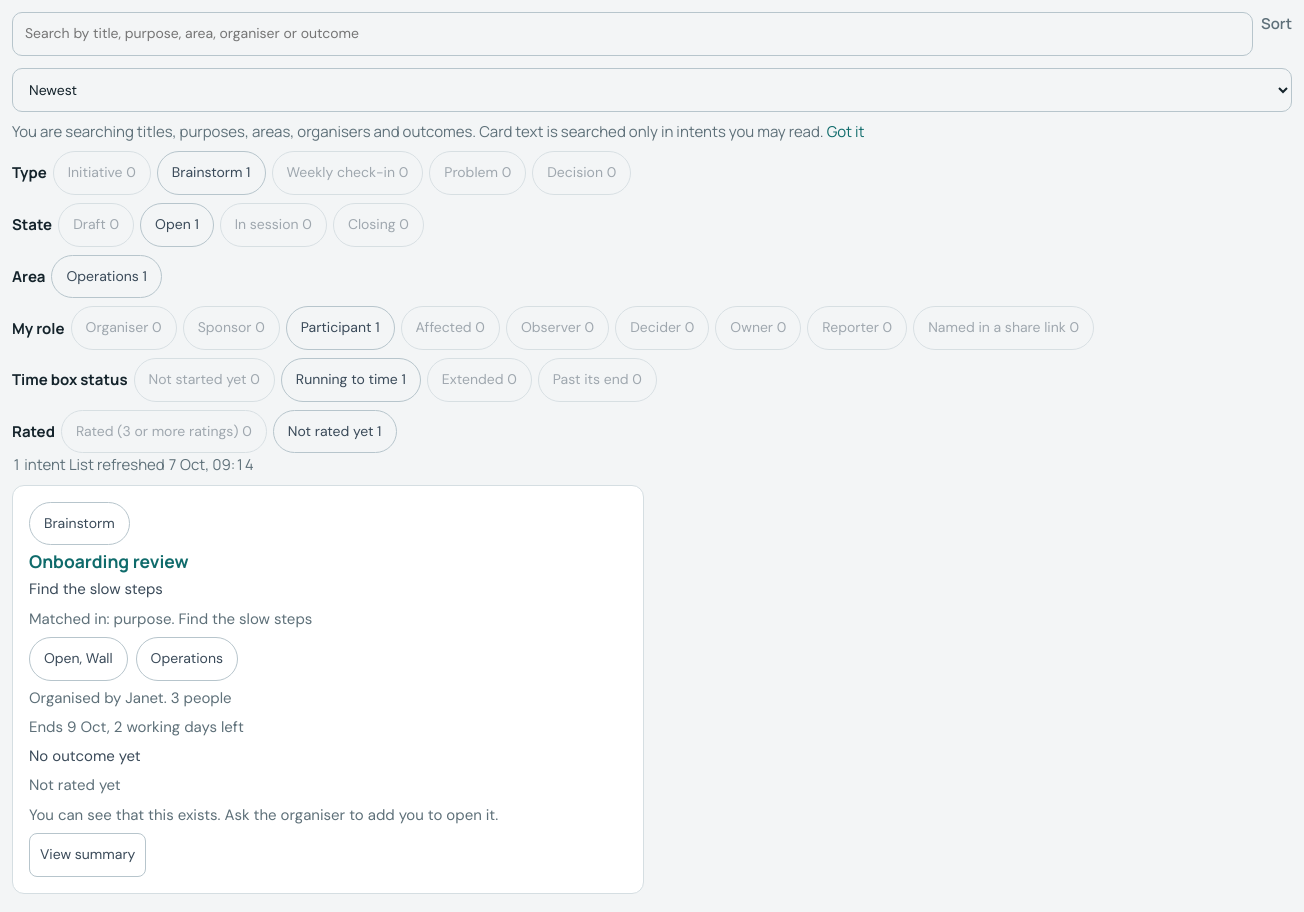
Test: Search region › sends a chip as a filter and shows the no-match copy
Expected: the link "Onboarding review" is shown, [29, 549, 189, 573]
Click the button "Initiative 0": (102,173) [53, 151, 151, 195]
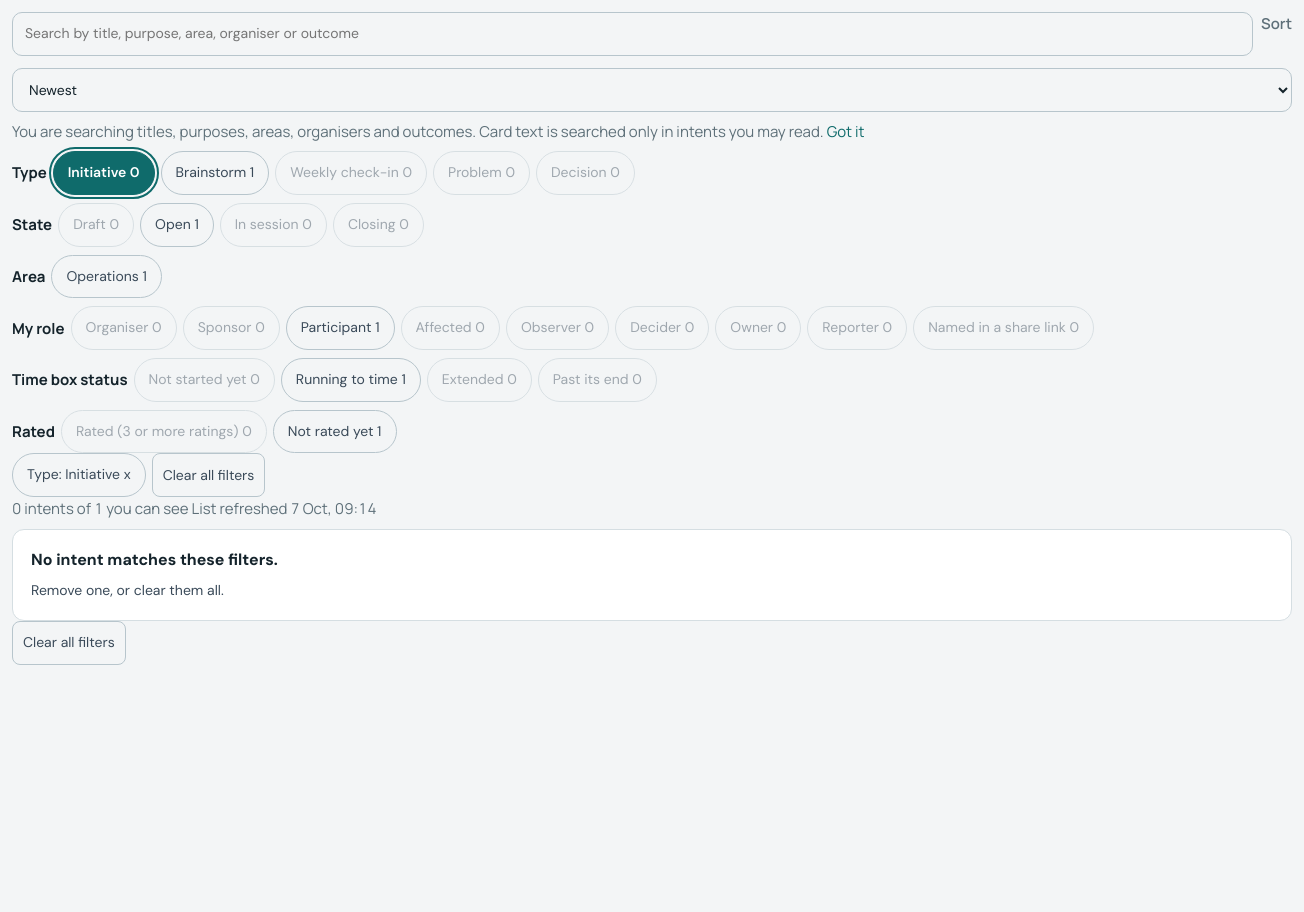
Now the text "No intent matches these filters." is shown, box [31, 549, 278, 570]
